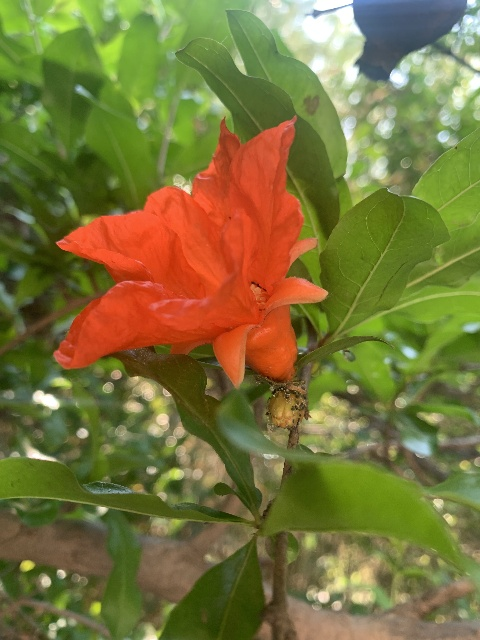flower: (53, 113, 323, 392)
